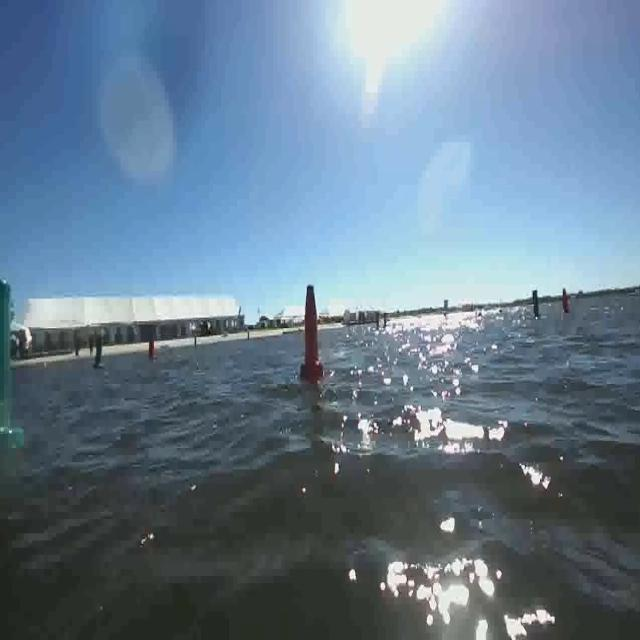green-column-buoy: (0, 276, 25, 444), (90, 336, 105, 370), (533, 286, 544, 318)
red-column-buoy: (300, 280, 325, 380), (561, 286, 571, 314), (148, 340, 156, 361)
